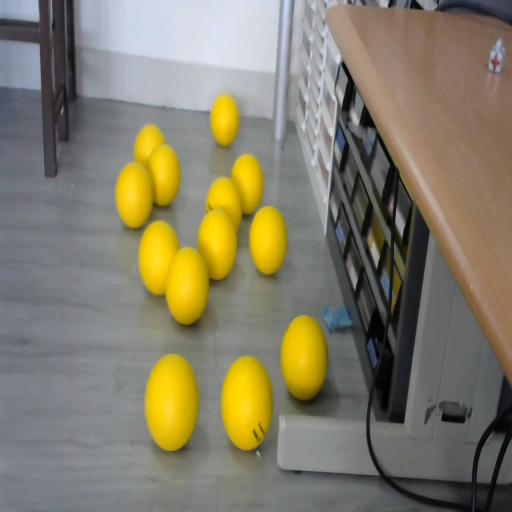FUEL: (144, 352, 199, 450), (220, 354, 273, 450), (280, 315, 326, 401), (164, 247, 210, 325), (197, 208, 238, 280), (248, 205, 288, 274), (115, 162, 154, 228), (147, 144, 181, 207), (231, 154, 264, 214), (210, 94, 239, 146)
